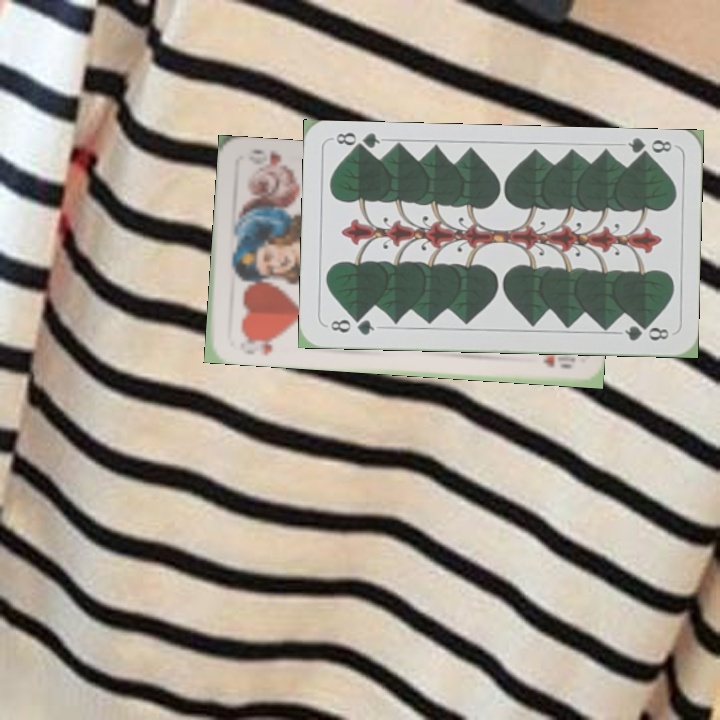G8: (624, 135, 674, 162), (326, 314, 377, 338)
HO: (236, 329, 286, 358)
